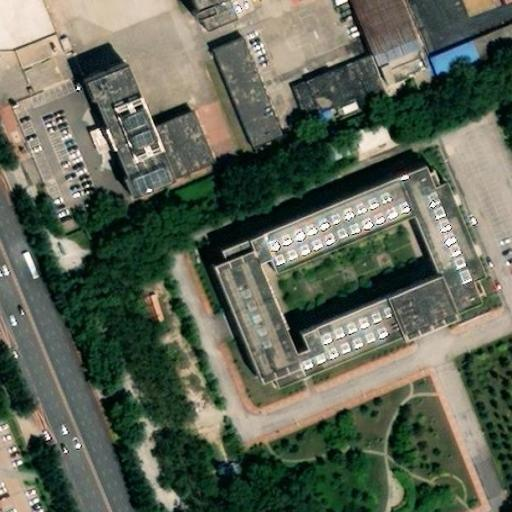building: (211, 172, 486, 406), (78, 76, 173, 213), (203, 15, 277, 133), (310, 69, 389, 137), (144, 112, 205, 185), (432, 54, 487, 104), (473, 37, 512, 75), (134, 285, 165, 324), (319, 132, 356, 162)
